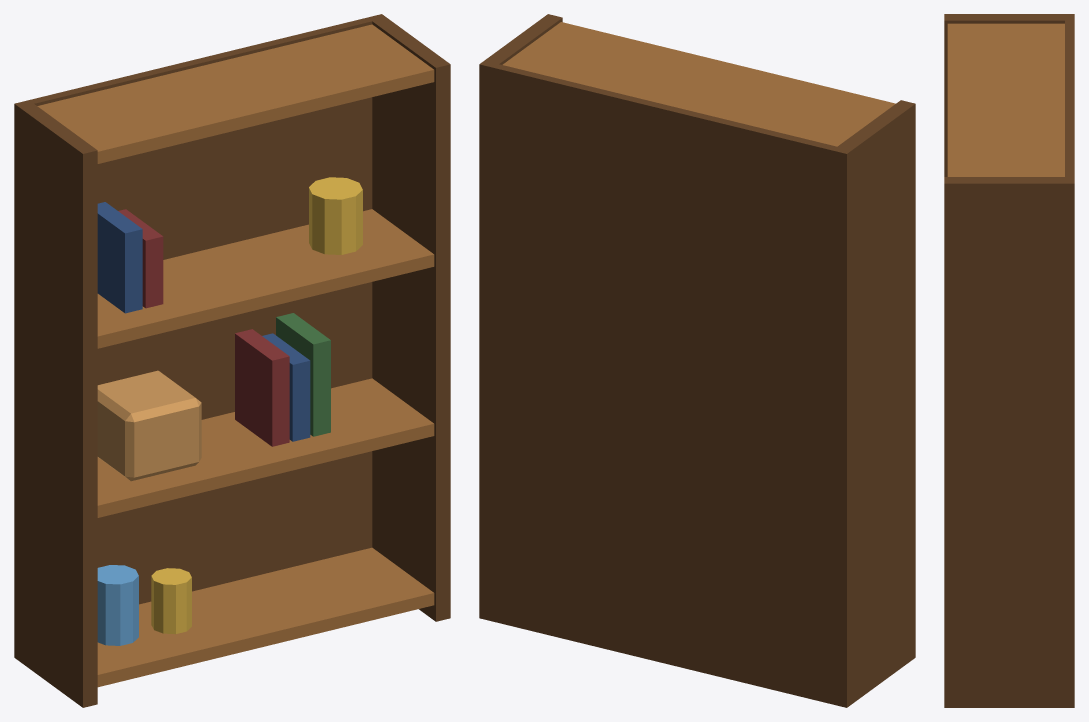
Rendered from shelf.glb.
The picture shows the model from 3 angles, left to right: view 1: azimuth 30°, elevation 25°; view 2: azimuth 150°, elevation 25°; view 3: azimuth 270°, elevation 25°; orthographic projection. The views are drawn at different scales.
Parts seen in each view (by area): view 1: shelf; view 2: shelf; view 3: shelf.
Boxes of the visible parts, x1=… form: shelf: x1=14, y1=14, x2=450, y2=707; shelf: x1=479, y1=14, x2=915, y2=707; shelf: x1=944, y1=14, x2=1074, y2=707.
Size of the model in its own units: 1.25 by 1.8 by 0.405.
